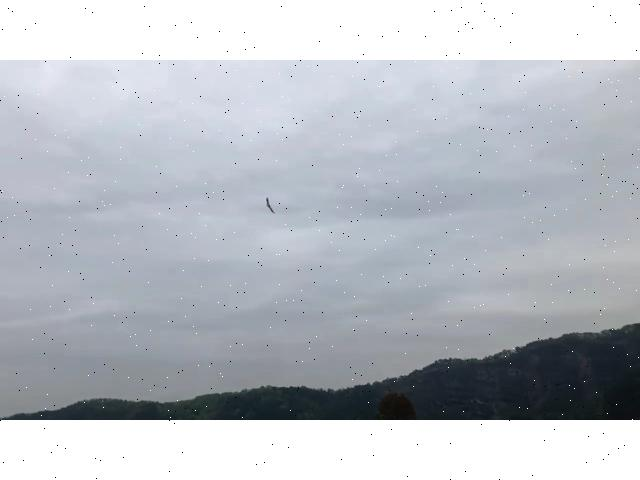Anti-Drone: (266, 198, 276, 214)
